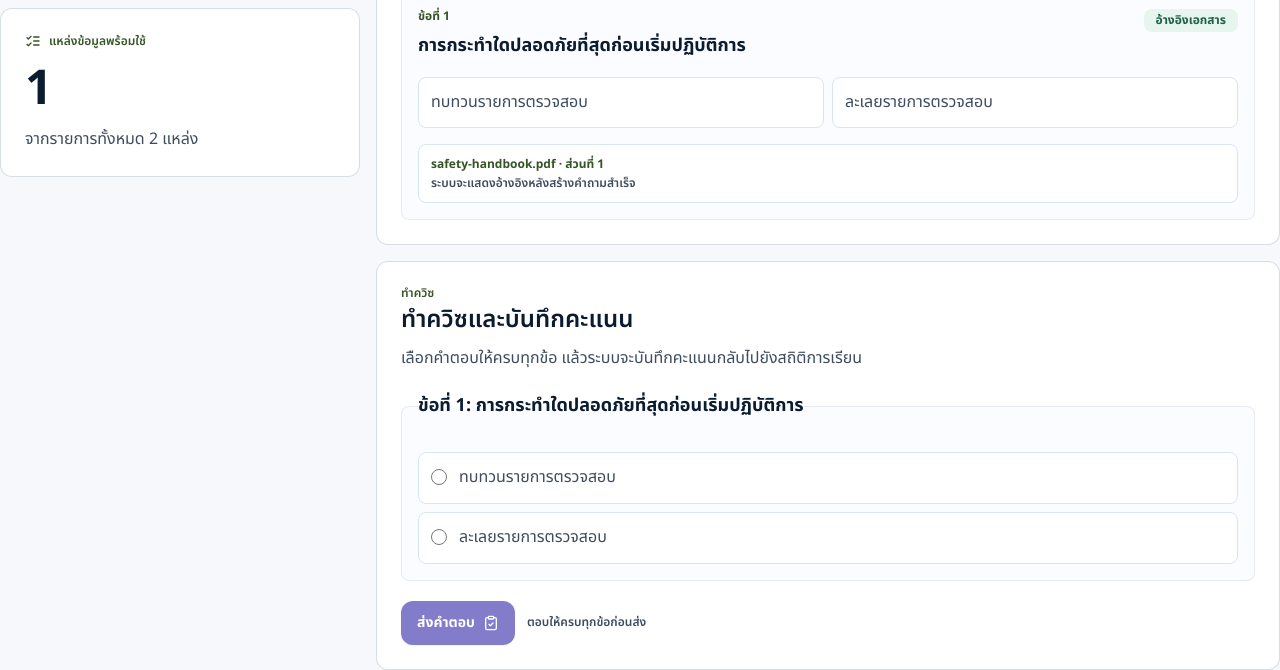
it: AiQuizGeneratorPage › submits a published learner quiz attempt and renders score feedback without exposing raw answer-key fields
(page scrolled)
Expected: the button "ส่งคำตอบ" is disabled, x1=401 y1=601 x2=515 y2=645
Click the radio button labelled "ทบทวนรายการตรวจสอบ" at (439, 477), box x1=431 y1=469 x2=447 y2=485
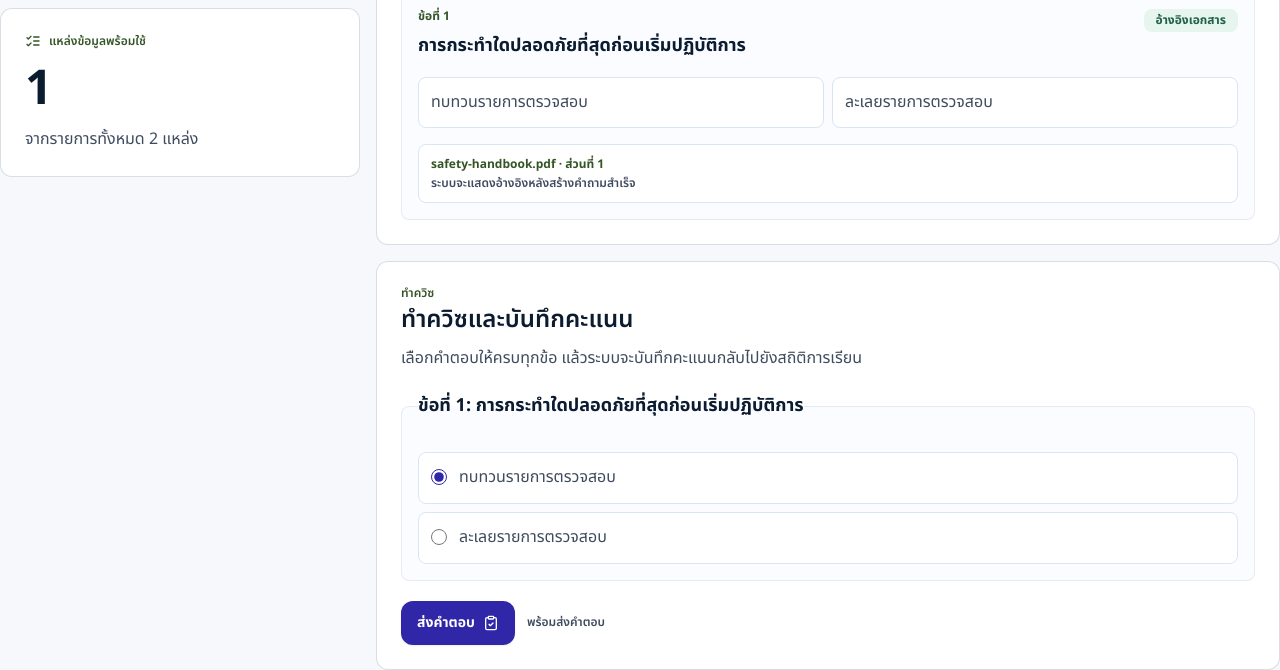
Now the button "ส่งคำตอบ" is enabled
Click the button "ส่งคำตอบ" at (458, 623), box x1=401 y1=601 x2=515 y2=645
(page scrolled)
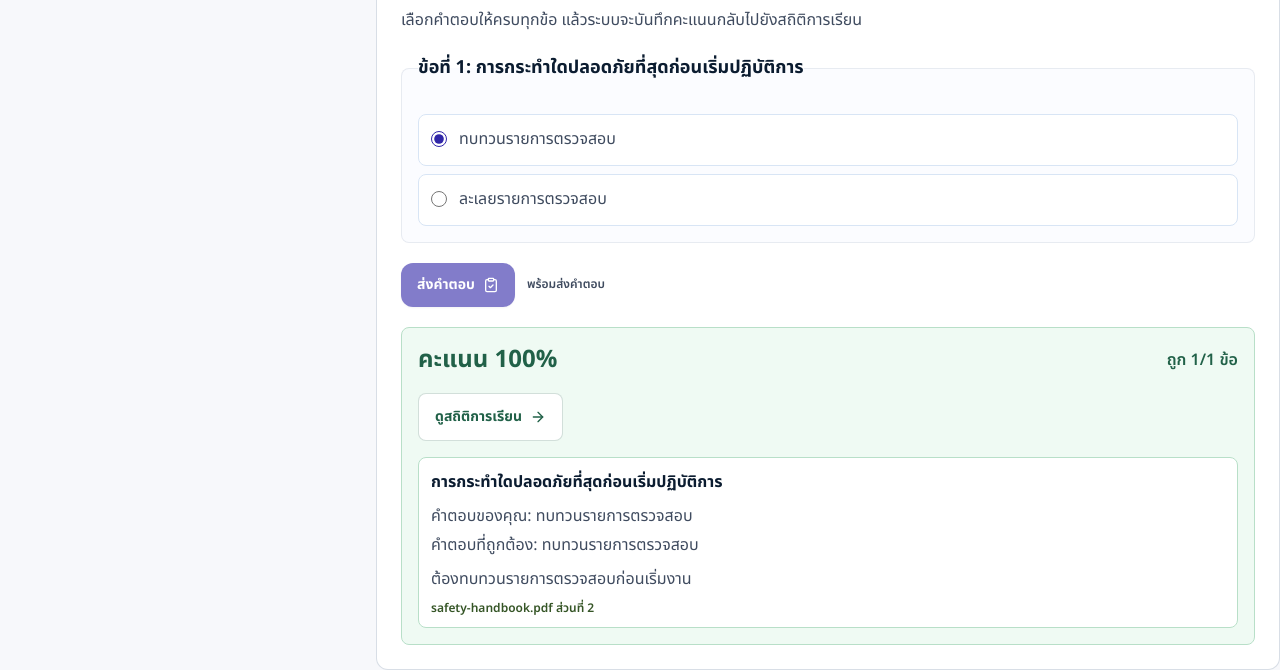
Now the text "คะแนน 100%" is shown, box x1=418 y1=344 x2=557 y2=377
Now the text "ถูก 1/1 ข้อ" is shown, box x1=1167 y1=348 x2=1238 y2=373
Now the text "ต้องทบทวนรายการตรวจสอบก่อนเริ่มงาน" is shown, box x1=431 y1=567 x2=692 y2=591
